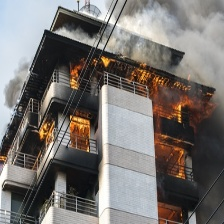fire: (132, 65, 213, 100), (66, 53, 114, 92), (155, 135, 187, 181), (69, 113, 91, 141), (39, 118, 59, 142), (158, 104, 184, 121)
smoke: (74, 1, 224, 62)
